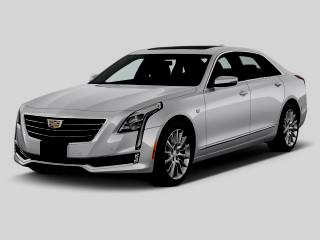cadillac: (42, 116, 69, 132)
